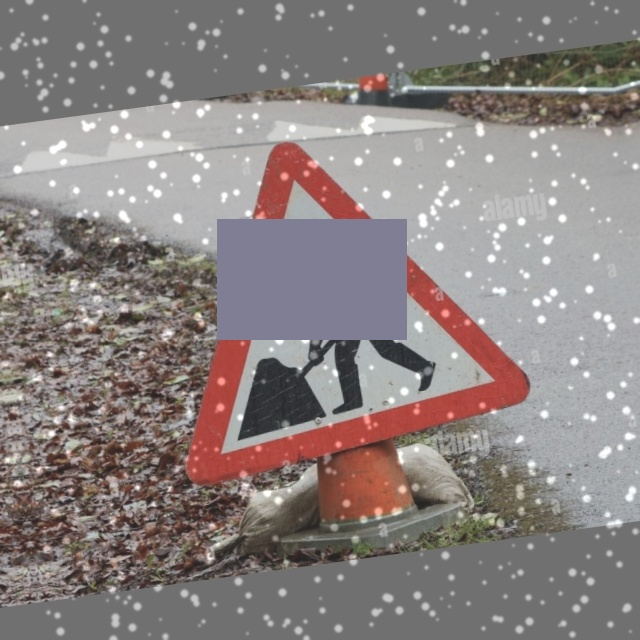Men_at_Work: (148, 117, 549, 477)
